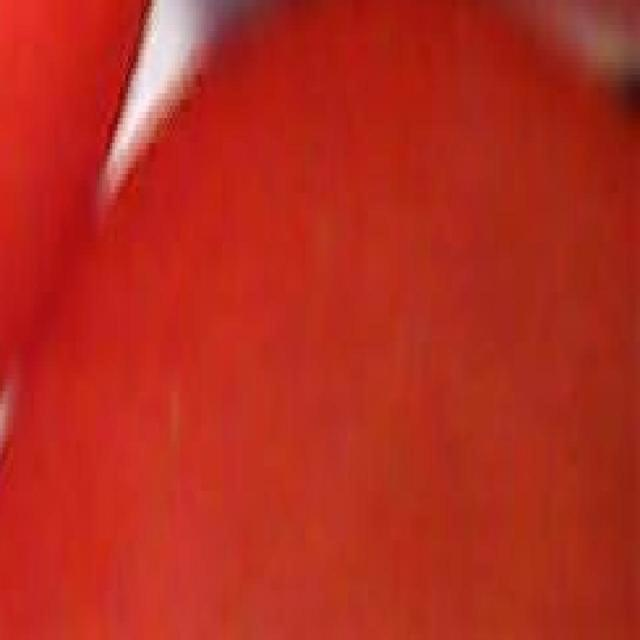Healthy Fruit: (12, 0, 427, 427)
